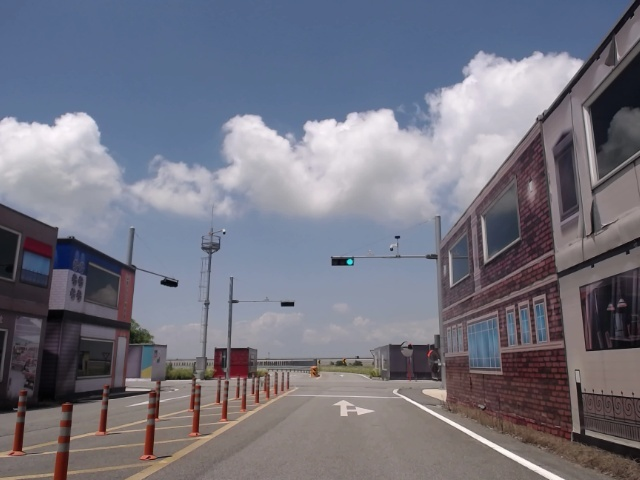green_3: (330, 256, 352, 265)
